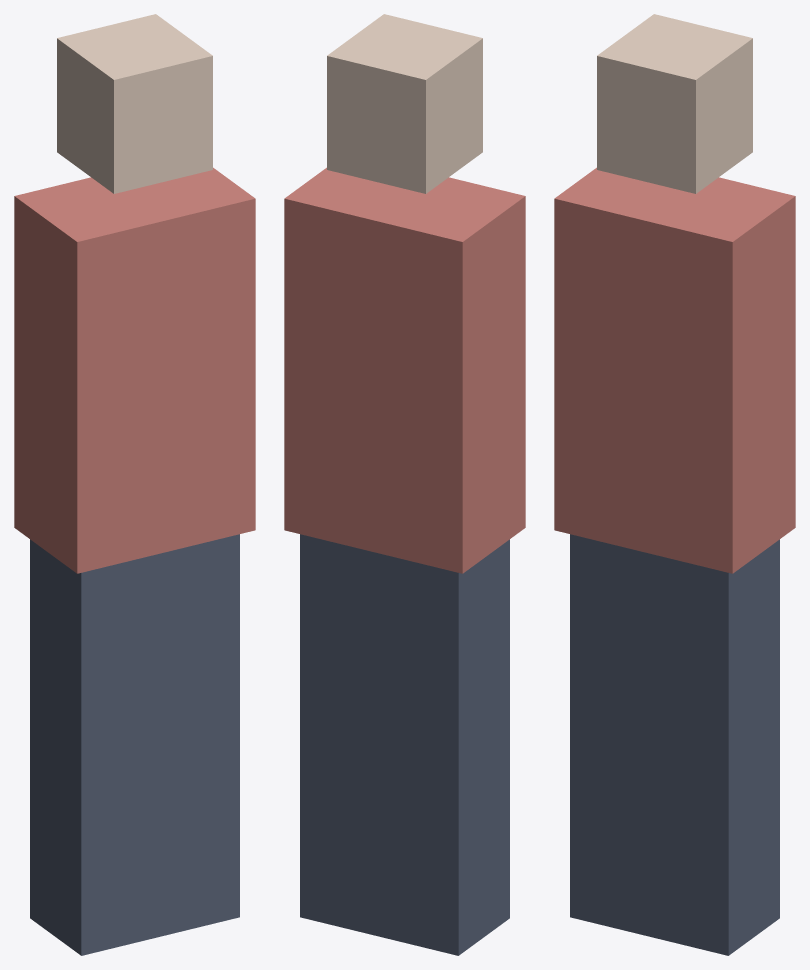
The model's file is pedestrian.glb.
3 views of the same model, side by side, from view 1: azimuth 30°, elevation 25°; view 2: azimuth 150°, elevation 25°; view 3: azimuth 330°, elevation 25° (orthographic).
Size of the model in its own units: 0.36 by 1.68 by 0.22.
